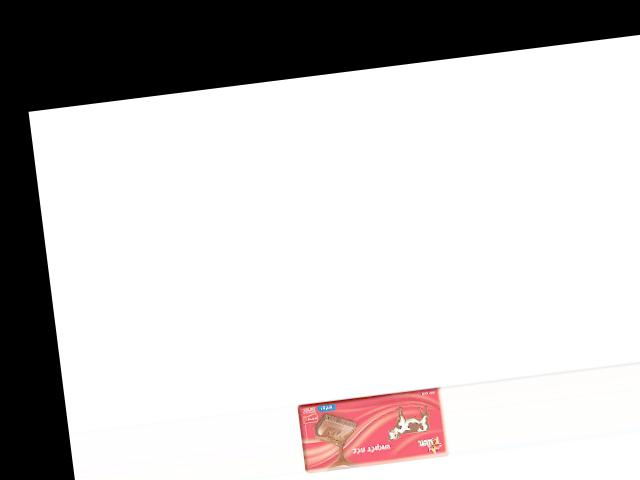chocolate: (296, 387, 450, 474)
